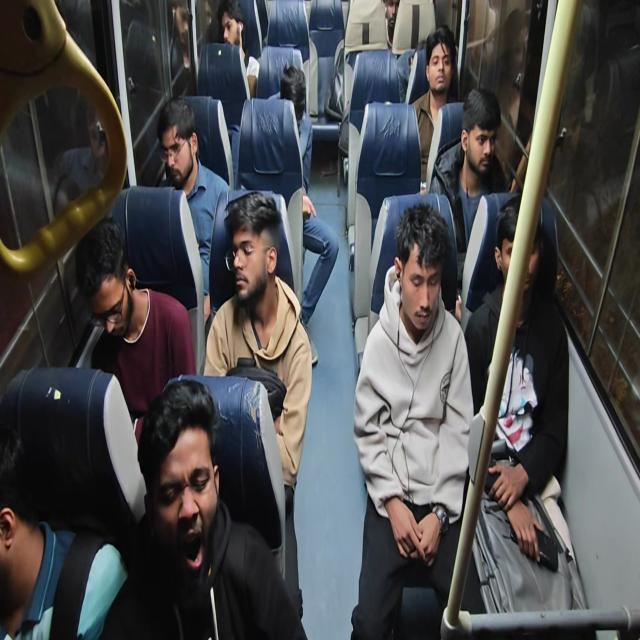person: (134, 390, 266, 622), (0, 409, 87, 640), (201, 182, 306, 354), (407, 193, 495, 376), (61, 236, 160, 353), (484, 204, 536, 320), (134, 102, 202, 172), (211, 0, 264, 88), (460, 98, 505, 169), (416, 37, 457, 95), (266, 60, 290, 137), (381, 0, 415, 49)
